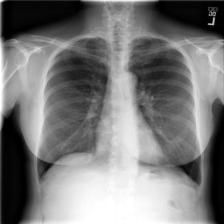normal: (33, 31, 209, 195)
